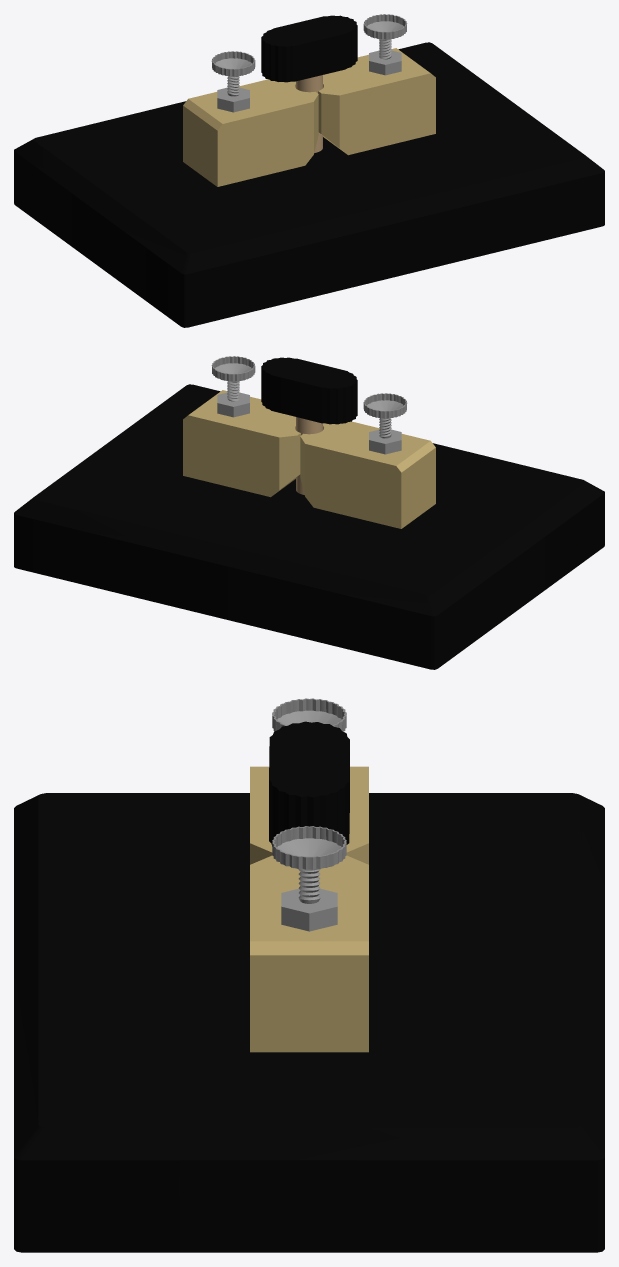
Rendered from key_corrected.gltf.
3 views of the same model, one above another, from view 1: azimuth 30°, elevation 25°; view 2: azimuth 150°, elevation 25°; view 3: azimuth 270°, elevation 25° (orthographic). The views are drawn at different scales.
Parts seen in each view (by area): view 1: key_Base, key_Conductor, key, key_terminal_B, key_terminal_A; view 2: key_Base, key_Conductor, key, key_terminal_B, key_terminal_A; view 3: key_Base, key_Conductor, key, key_terminal_B, key_terminal_A.
Part boxes in pixels (left/top/right/bottom): key_Base: left=14, top=42, right=604, bottom=327; key_Conductor: left=183, top=48, right=435, bottom=186; key: left=261, top=15, right=357, bottom=152; key_terminal_B: left=363, top=14, right=407, bottom=75; key_terminal_A: left=211, top=51, right=255, bottom=112; key_Base: left=14, top=384, right=604, bottom=669; key_Conductor: left=183, top=390, right=435, bottom=528; key: left=261, top=357, right=357, bottom=494; key_terminal_B: left=211, top=356, right=255, bottom=417; key_terminal_A: left=363, top=393, right=407, bottom=454; key_Base: left=14, top=793, right=604, bottom=1252; key_Conductor: left=250, top=766, right=368, bottom=1052; key: left=269, top=721, right=349, bottom=846; key_terminal_B: left=272, top=826, right=346, bottom=931; key_terminal_A: left=272, top=698, right=346, bottom=731.
Bounding box in the file's own units: 0.1221 × 0.0505 × 0.0858.
